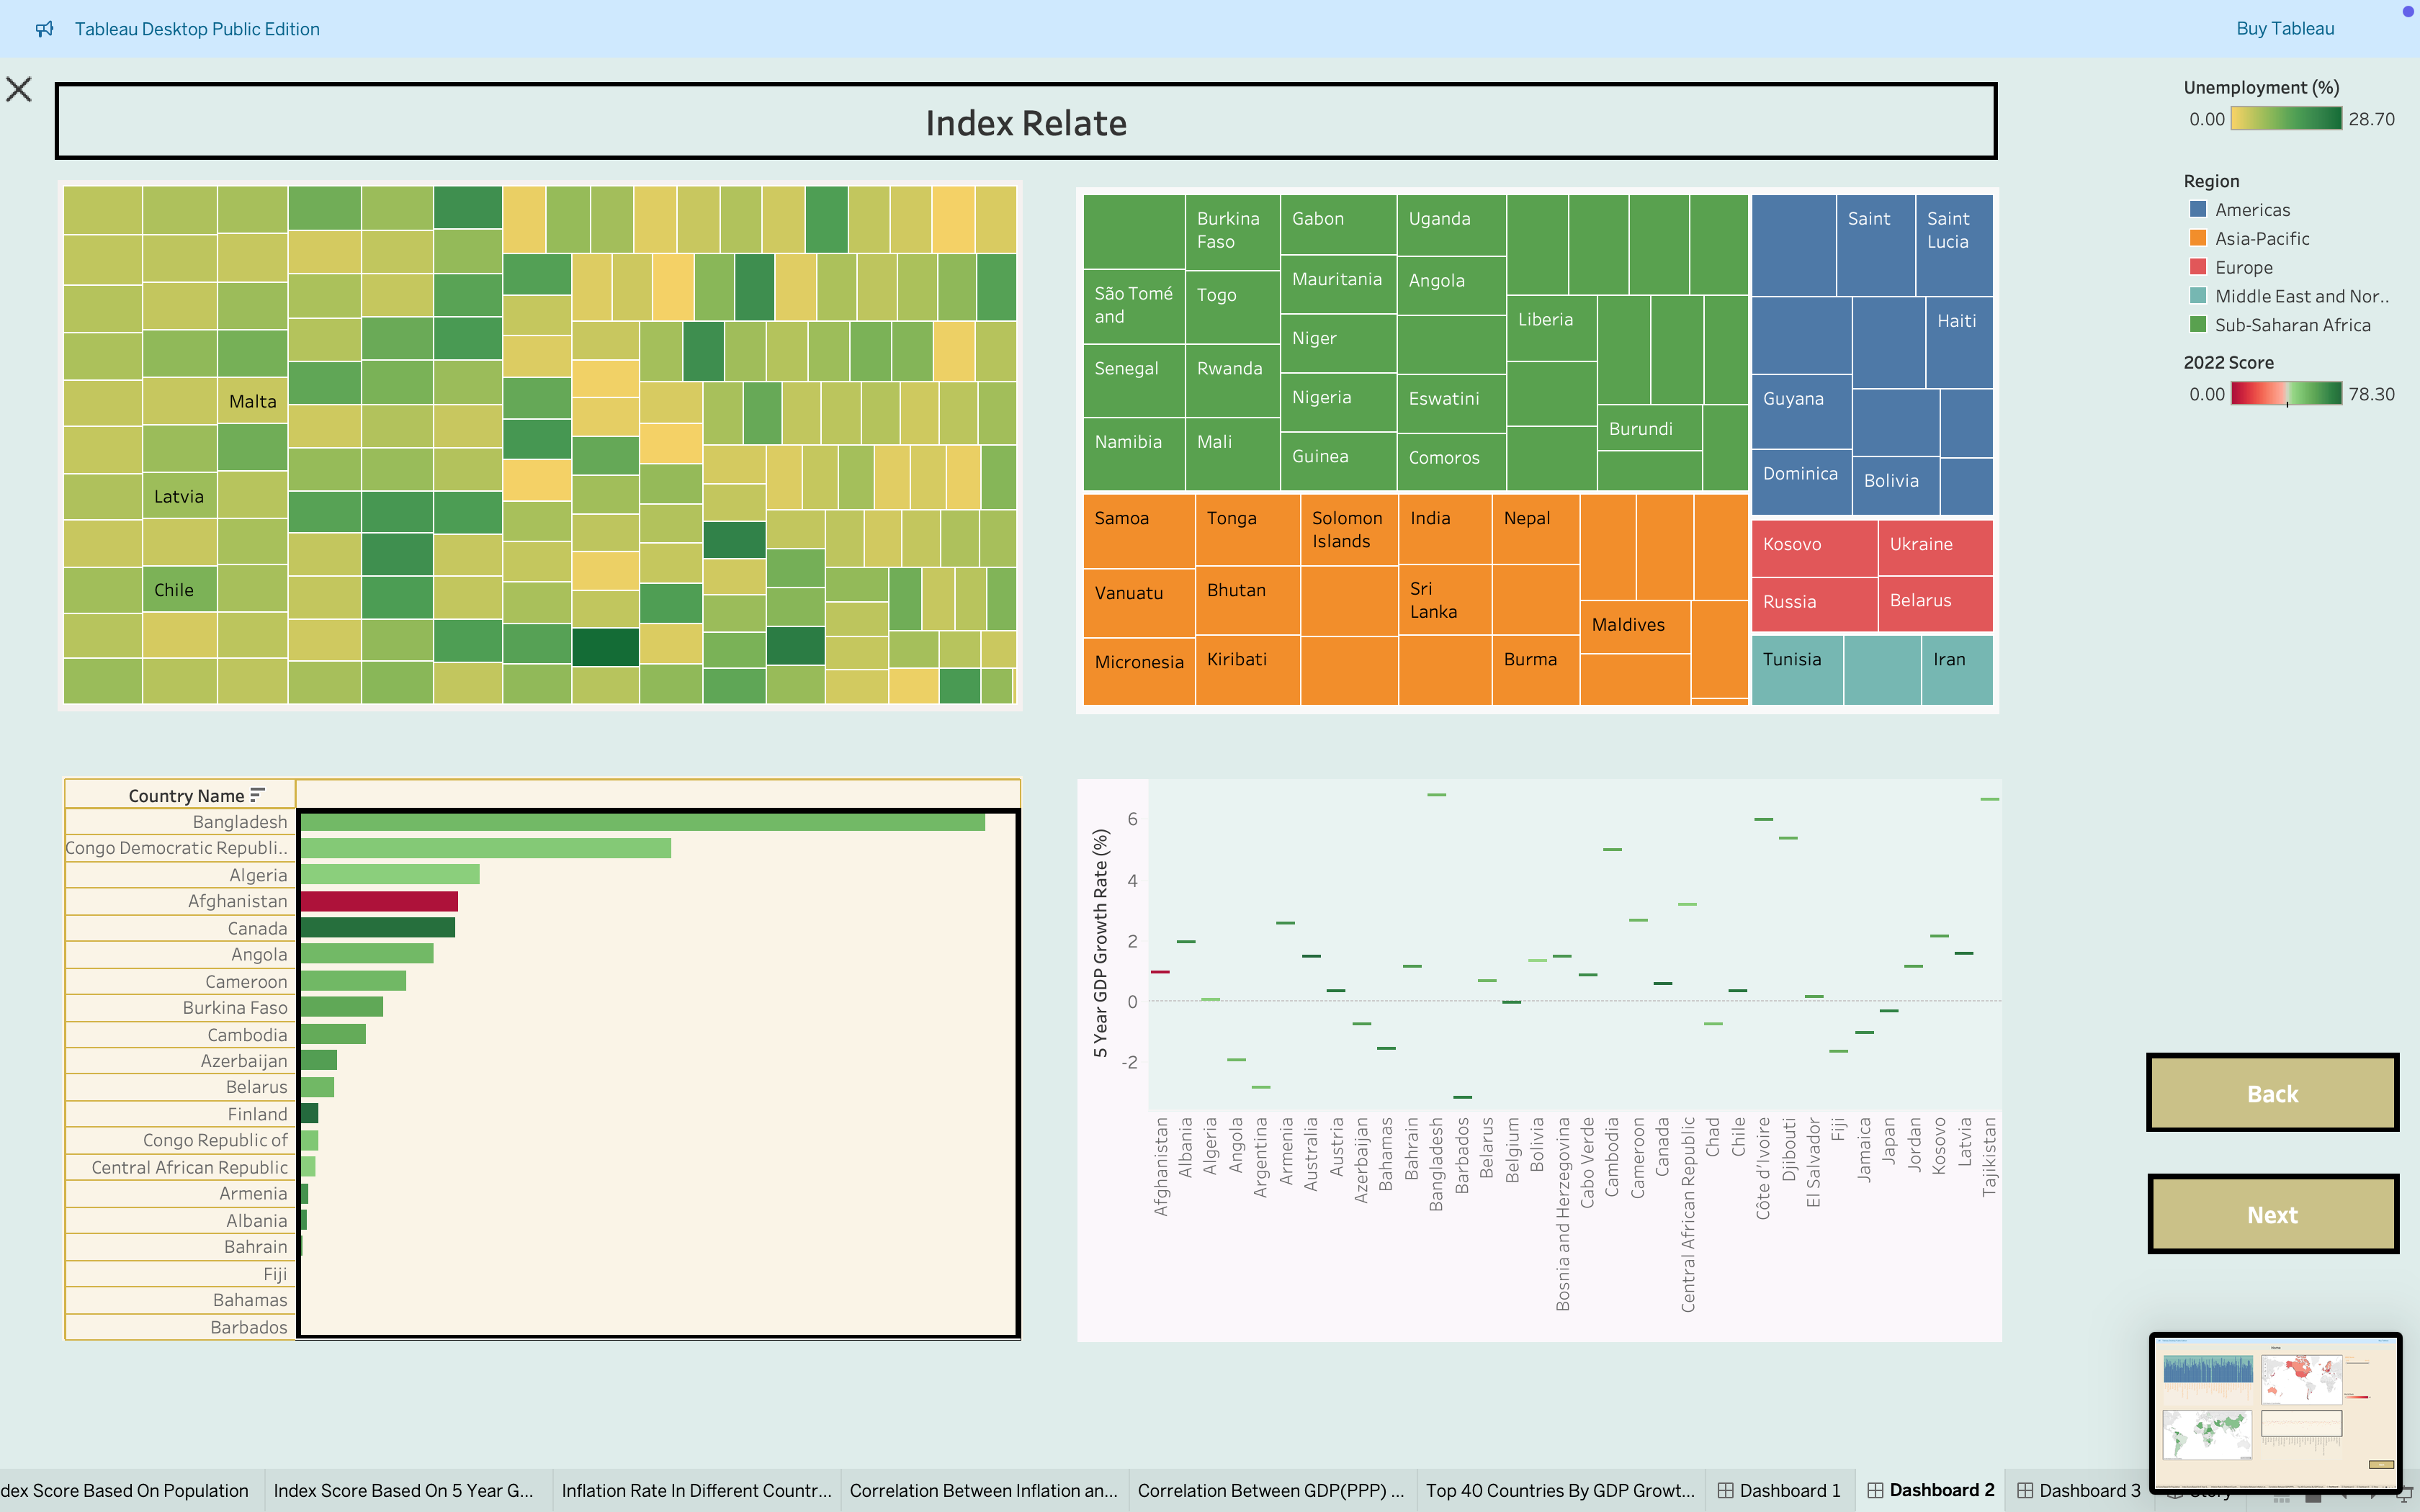

The dashboard page shown, as its layout file describes it:
{"tool":"tableau","page":{"name":"Dashboard 2","canvas":[1000,1000],"units":"permille","ordinal":1},"visuals":[{"type":"dashboard-object","box":[0,8.7,16.3,26.1]},{"type":"legend","title":"Index Score Based On Unemployment Rate","param":"[federated.042wyc91rotaj818snlb71x89js2].[sum:Unemployment (%):qk]","box":[885.6,8.7,108.9,70.8]},{"type":"title","box":[22.5,17.4,803.3,55.6]},{"type":"legend","title":"Index Score Based On Financial Freedom","param":"[federated.042wyc91rotaj818snlb71x89js2].[none:Region:nk]","box":[885.6,79.5,108.9,137.2]},{"type":"worksheet","title":"Index Score Based On Unemployment Rate","mark":"Automatic","box":[23.8,87.2,398.9,376.9]},{"type":"worksheet","title":"Index Score Based On Financial Freedom","mark":"Automatic","box":[444.5,91.5,381.9,373.6]},{"type":"legend","title":"Index Score Based On Population","param":"[federated.042wyc91rotaj818snlb71x89js2].[sum:2022 Score:qk]","box":[885.6,216.8,108.9,70.8]},{"type":"worksheet","title":"Index Score Based On Population","mark":"Automatic","rows":["Country Name"],"cols":["Population (Millions)"],"box":[25.9,508.7,396.9,400.9]},{"type":"worksheet","title":"Index Score Based On 5 Year GDP Growth Rate","mark":"GanttBar","rows":["5 Year GDP Growth Rate (%)"],"cols":["Country Name"],"box":[445.2,510.9,381.9,399.8]},{"type":"dashboard-object","box":[887,704.8,104.8,56.6]},{"type":"dashboard-object","box":[887.7,790.9,104.2,56.6]}]}

Visuals, with their boxes on the dashboard's canvas, which has no fixed pixel size, in thousandths of its width and height (x1, y1, x2, y2). These are canvas units, not pixel positions in the 2420x1512 screenshot, which may show the page scaled, cropped or inside an application window:
dashboard-object: [0,9,16,35]
"Index Score Based On Unemployment Rate" legend: [886,9,994,80]
title: [22,17,826,73]
"Index Score Based On Financial Freedom" legend: [886,80,994,217]
"Index Score Based On Unemployment Rate" worksheet: [24,87,423,464]
"Index Score Based On Financial Freedom" worksheet: [444,92,826,465]
"Index Score Based On Population" legend: [886,217,994,288]
"Index Score Based On Population" worksheet: [26,509,423,910]
"Index Score Based On 5 Year GDP Growth Rate" worksheet (GanttBar marks): [445,511,827,911]
dashboard-object: [887,705,992,761]
dashboard-object: [888,791,992,848]
